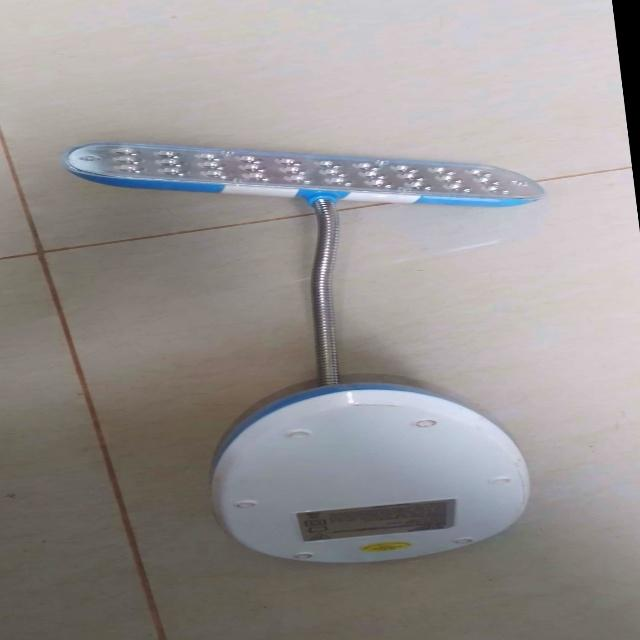Lantern: (1, 119, 640, 585)
